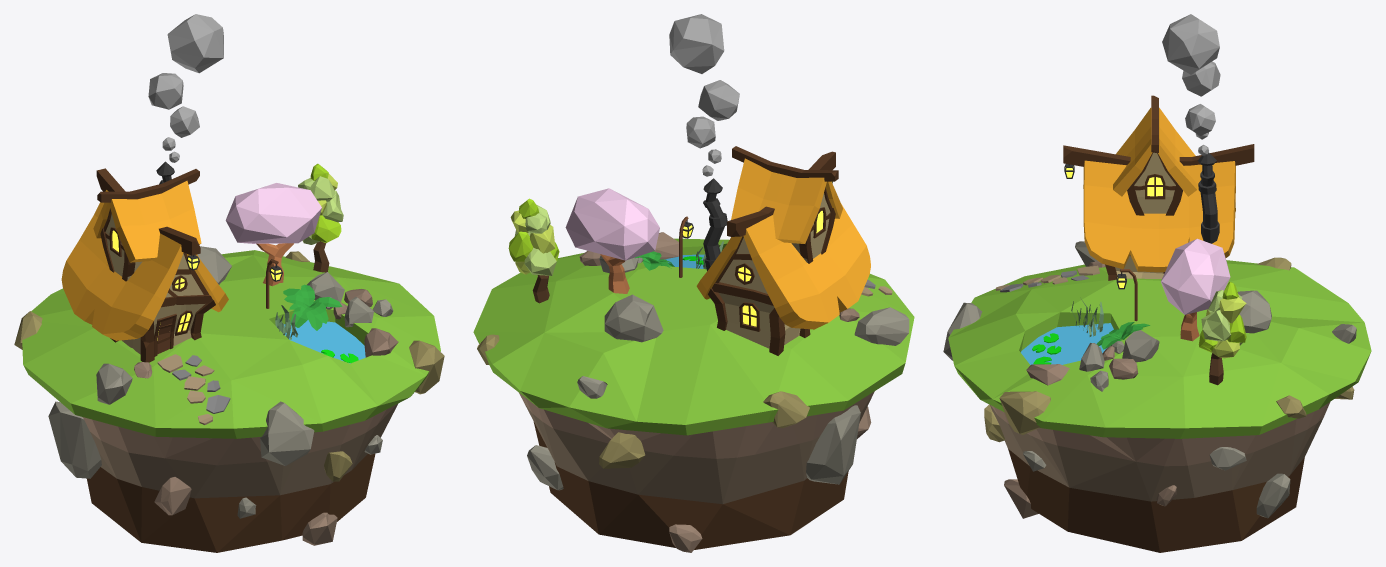
File: Low poly land.fbx
3 renders of one model, left to right at view 1: azimuth 30°, elevation 25°; view 2: azimuth 150°, elevation 25°; view 3: azimuth 270°, elevation 25°, orthographic. The views are drawn at different scales.
Visible parts, largest first — view 1: Cylinder.005, Cylinder, Cube.001, Icosphere, Cube.003, Icosphere.042, Icosphere.018, Icosphere.033, Cylinder.007, Cube, Icosphere.012, Icosphere.015 (+15 smaller); view 2: Cylinder.005, Cylinder, Cube.001, Cube.003, Icosphere, Icosphere.018, Cube, Icosphere.042, Icosphere.020, Icosphere.015, Cylinder.003, Icosphere.029 (+13 smaller); view 3: Cylinder.005, Cylinder, Cube.001, Icosphere, Cube.003, Icosphere.042, Cylinder.007, Cube.004, Icosphere.012, Cube.002, Cylinder.003, Icosphere.020 (+12 smaller).
Boxes of the visible parts, box(x1,y1,x2,y2) form: Cylinder.005: box(22, 250, 440, 438); Cylinder: box(82, 404, 397, 552); Cube.001: box(61, 190, 228, 340); Icosphere: box(225, 183, 321, 243); Cube.003: box(93, 180, 201, 262); Icosphere.042: box(167, 14, 223, 73); Icosphere.018: box(48, 401, 101, 478); Icosphere.033: box(260, 401, 314, 465); Cylinder.007: box(284, 320, 365, 363); Cube: box(122, 253, 204, 354); Icosphere.012: box(409, 340, 444, 394); Icosphere.015: box(96, 363, 132, 404); Cylinder.005: box(473, 238, 914, 435); Cylinder: box(519, 391, 874, 549); Cube.001: box(696, 203, 870, 329); Cube.003: box(731, 158, 842, 243); Icosphere: box(565, 188, 659, 260); Icosphere.018: box(806, 405, 860, 484); Cube: box(719, 237, 800, 348); Icosphere.042: box(669, 14, 724, 73); Icosphere.020: box(604, 294, 663, 342); Icosphere.015: box(854, 307, 909, 345); Cylinder.003: box(703, 178, 727, 270); Icosphere.029: box(599, 432, 645, 468); Cylinder.005: box(948, 260, 1371, 438); Cylinder: box(990, 402, 1330, 552); Cube.001: box(1083, 160, 1235, 272); Icosphere: box(1161, 238, 1230, 314); Cube.003: box(1113, 107, 1197, 196); Icosphere.042: box(1162, 14, 1219, 74); Cylinder.007: box(1021, 323, 1113, 364); Cube.004: box(1063, 144, 1254, 166); Icosphere.012: box(999, 391, 1050, 434); Cube.002: box(1134, 152, 1175, 213); Cylinder.003: box(1197, 152, 1219, 243); Icosphere.020: box(1237, 290, 1271, 333).
Size of the model in its own units: 769 by 968 by 787.
